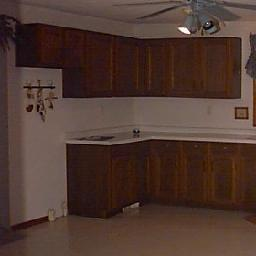Electrodomestico: (11, 69, 66, 224)
